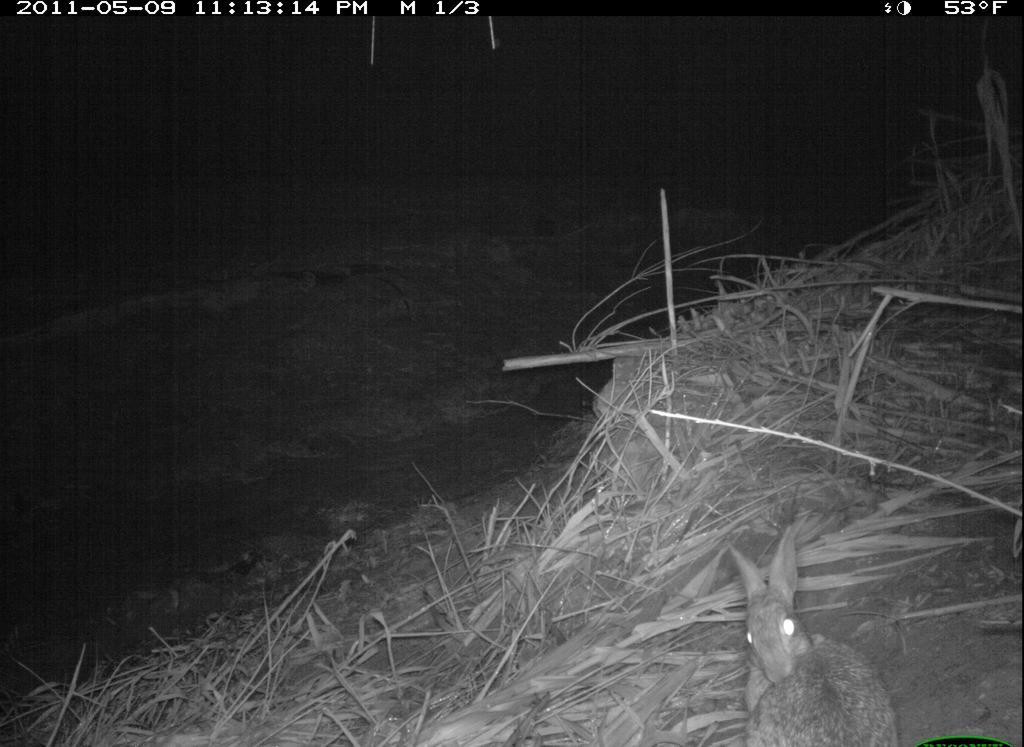rabbit: (711, 527, 898, 745)
